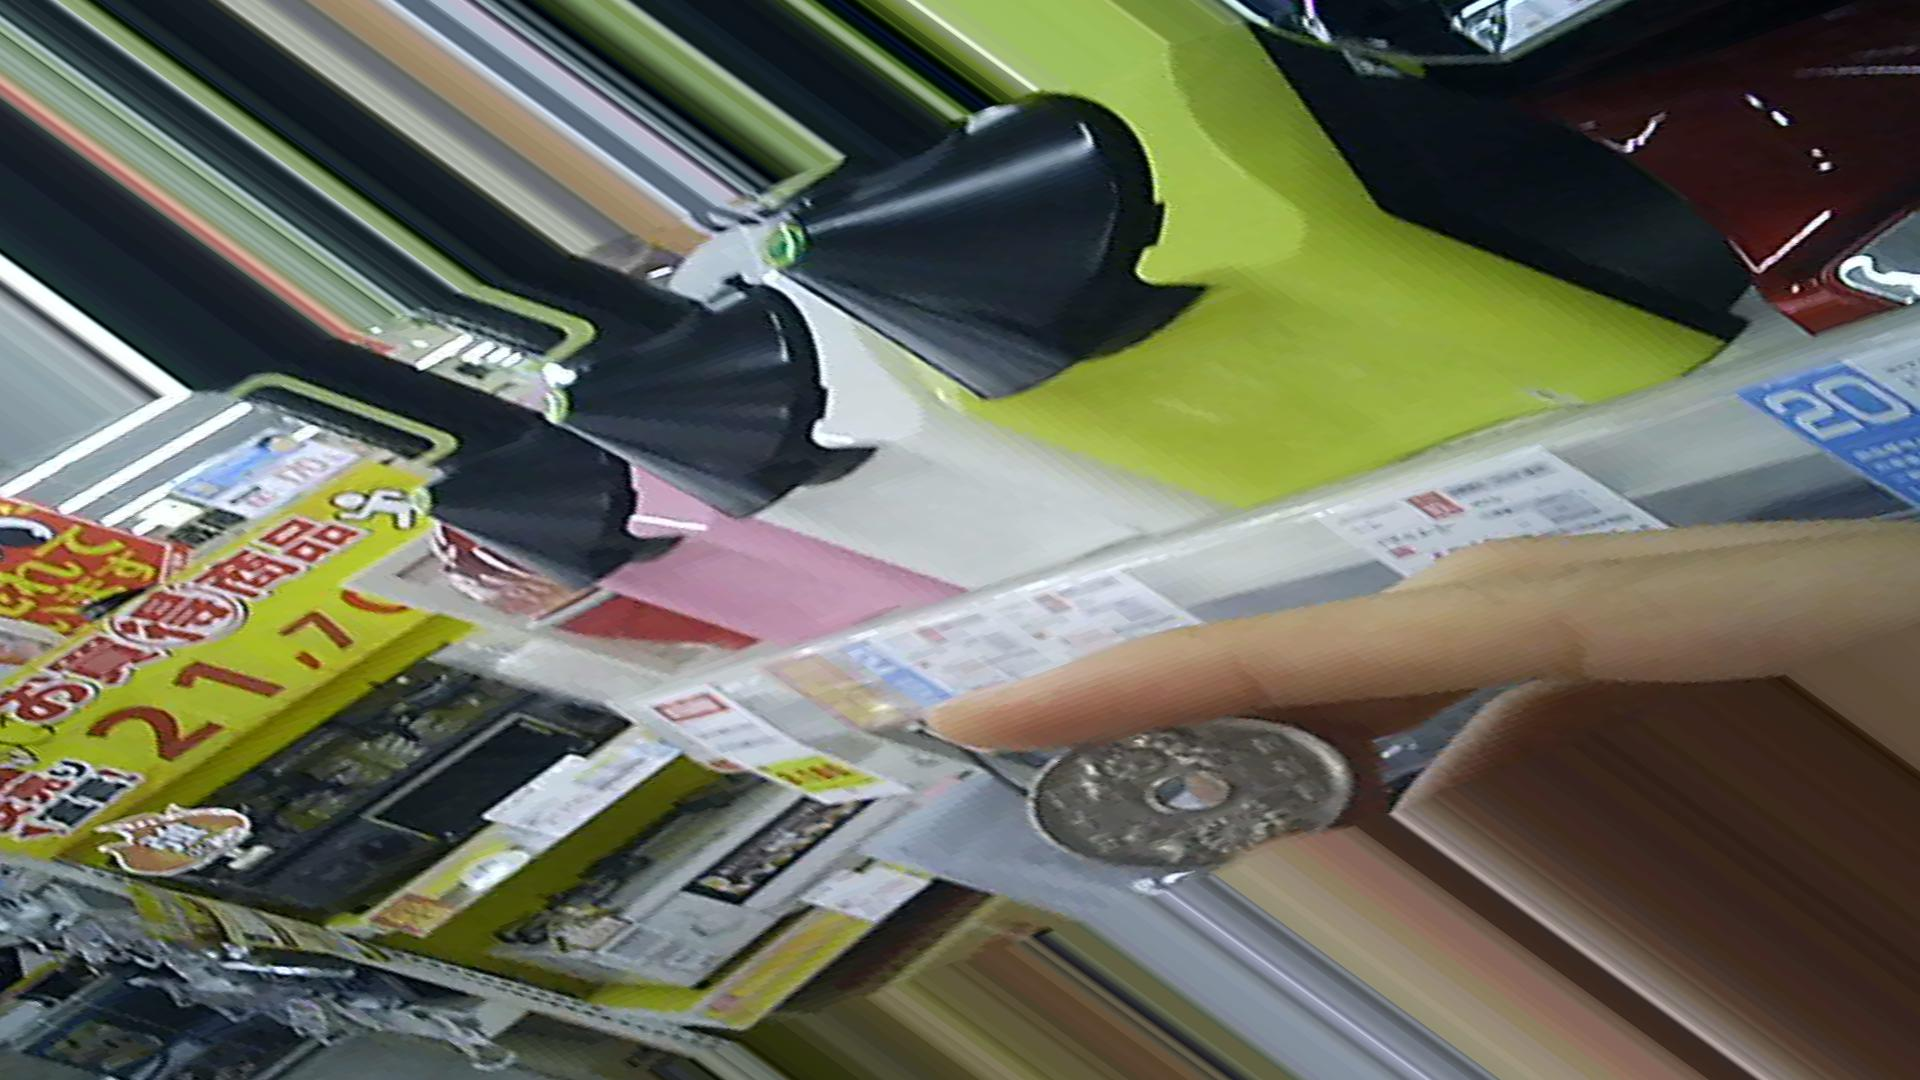50 Yen: (1019, 705, 1346, 874)
